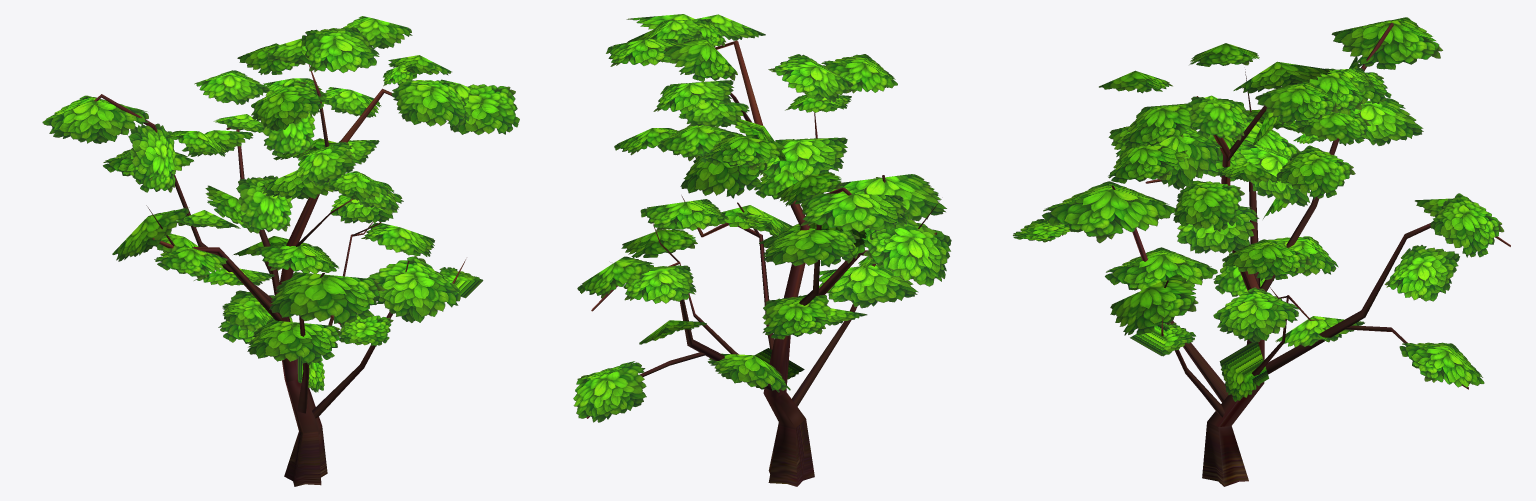
File: Tree06.fbx
3 renders of one model, left to right at view 1: azimuth 30°, elevation 25°; view 2: azimuth 150°, elevation 25°; view 3: azimuth 270°, elevation 25°, orthographic. The views are drawn at different scales.
Parts seen in each view (by area): view 1: polySurface411; view 2: polySurface411; view 3: polySurface411.
Boxes of the visible parts, x1=… form: polySurface411: x1=42, y1=16, x2=519, y2=486; polySurface411: x1=573, y1=14, x2=951, y2=486; polySurface411: x1=1013, y1=17, x2=1510, y2=486.
Bounding box in the file's own units: 3.75 × 3.65 × 3.91.
